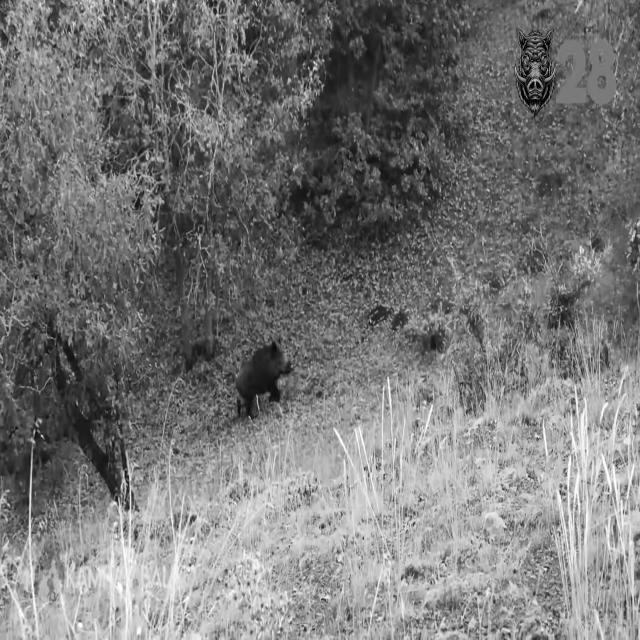boar: (235, 341, 292, 418), (515, 26, 557, 116)
